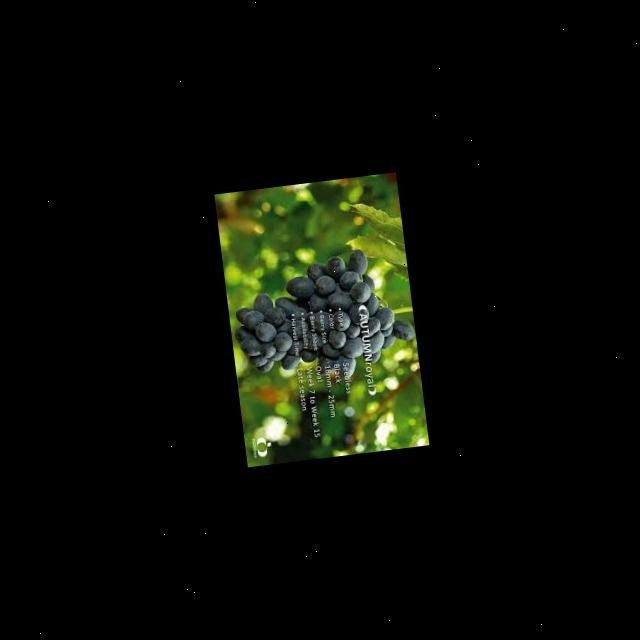grape: (225, 243, 418, 392)
